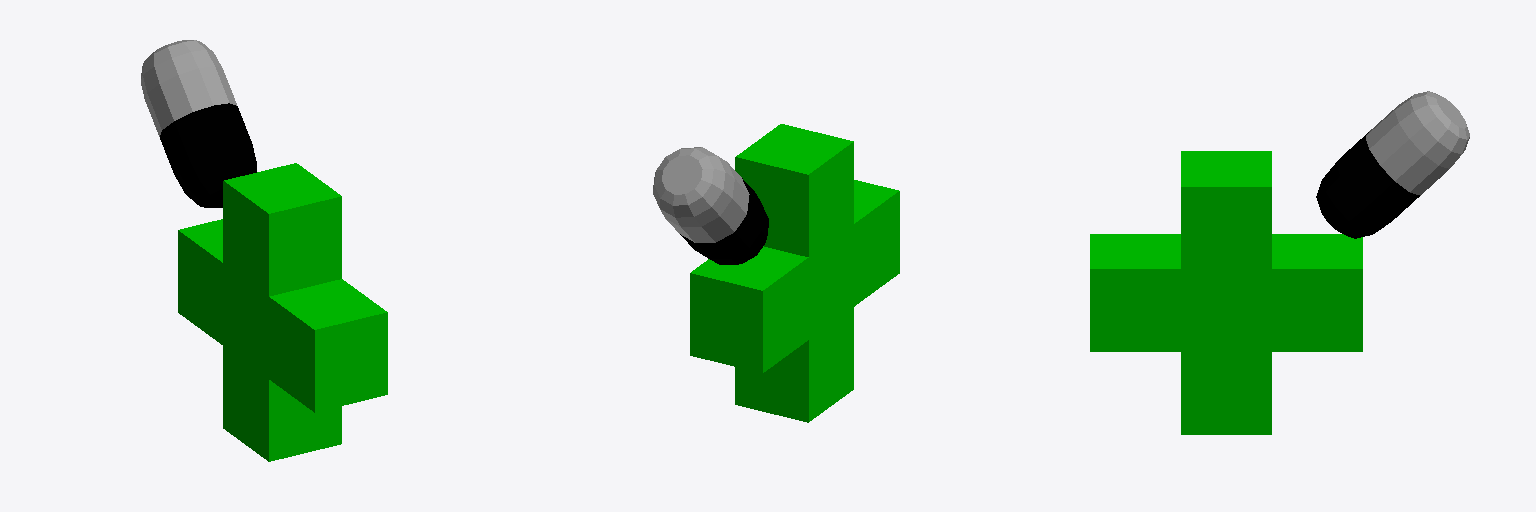
Rendered from icon_pharmacy.obj.
3 renders of one model, left to right at view 1: azimuth 30°, elevation 25°; view 2: azimuth 150°, elevation 25°; view 3: azimuth 270°, elevation 25°, orthographic.
Parts seen in each view (by area): view 1: Pharmacy_Cube.004; view 2: Pharmacy_Cube.004; view 3: Pharmacy_Cube.004.
Boxes of the visible parts, <box> form: Pharmacy_Cube.004: <box>141,40,387,461</box>; Pharmacy_Cube.004: <box>653,124,899,422</box>; Pharmacy_Cube.004: <box>1090,91,1469,434</box>.
Bounding box in the file's own units: 0.617 × 2.59 × 2.78.